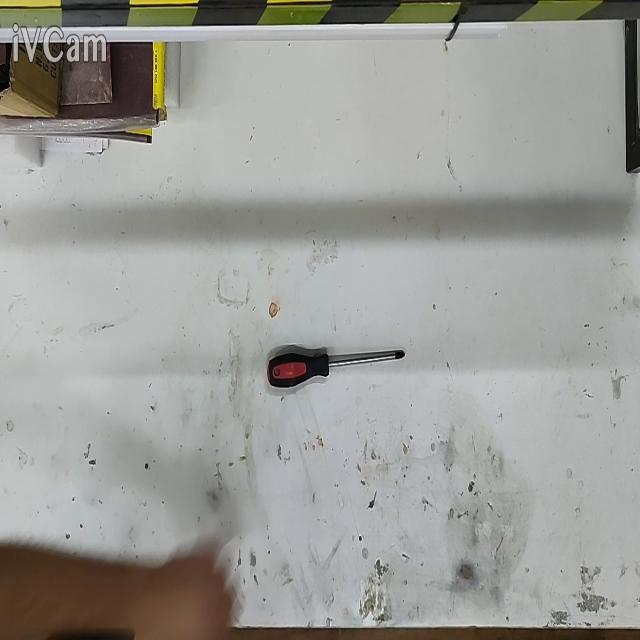Screwdriver: (268, 349, 405, 389)
